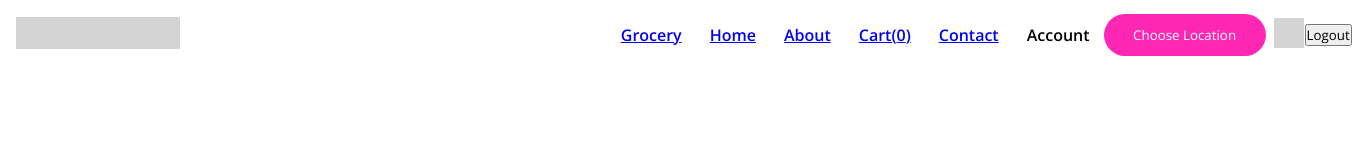
it: should change login to logout on click
The image size is (1369, 160).
Click the button "Logout": {"x": 1328, "y": 35} [1305,24,1352,46]
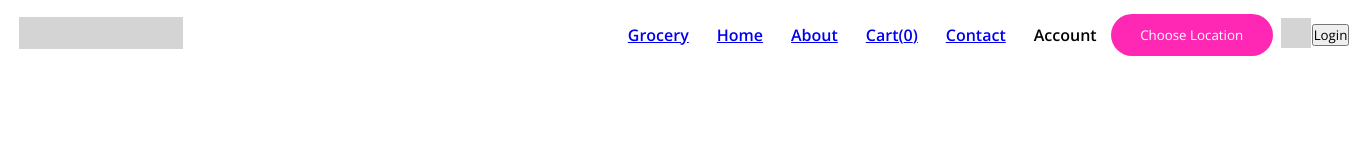
Now the button "Login" is shown, box [1312,24,1349,46]
